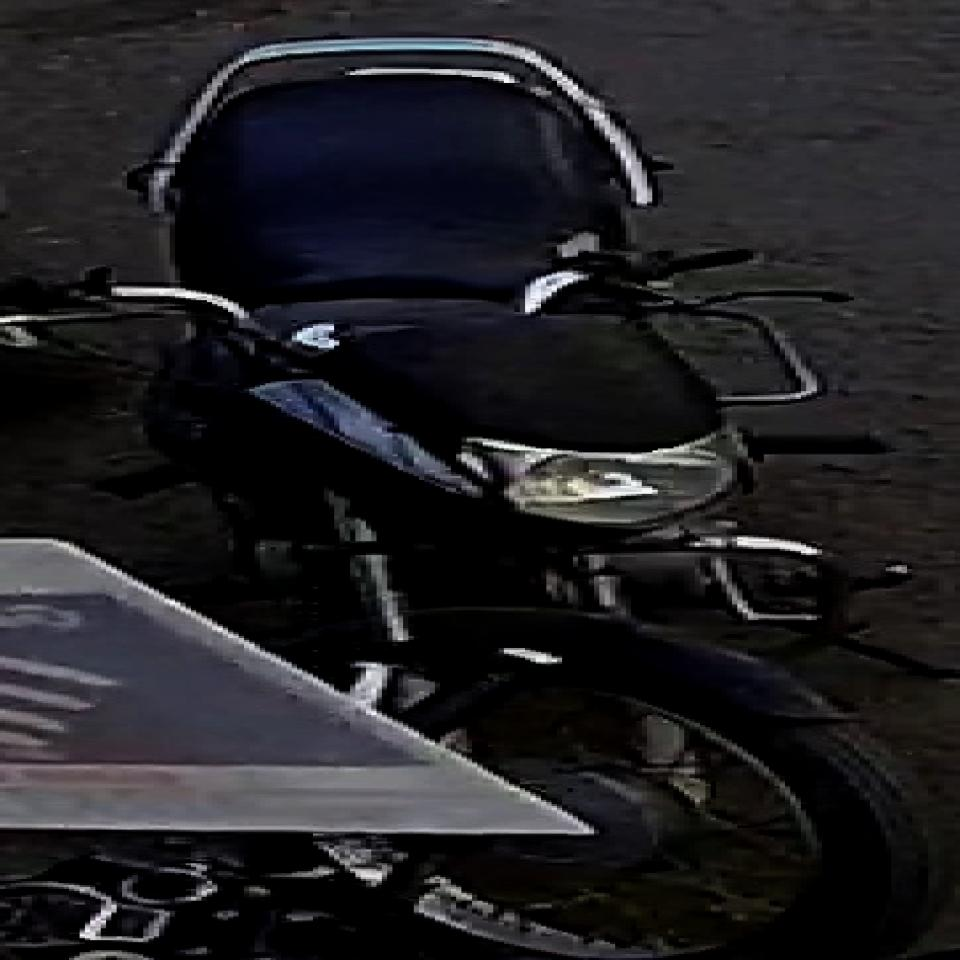head_light: (506, 454, 747, 520)
